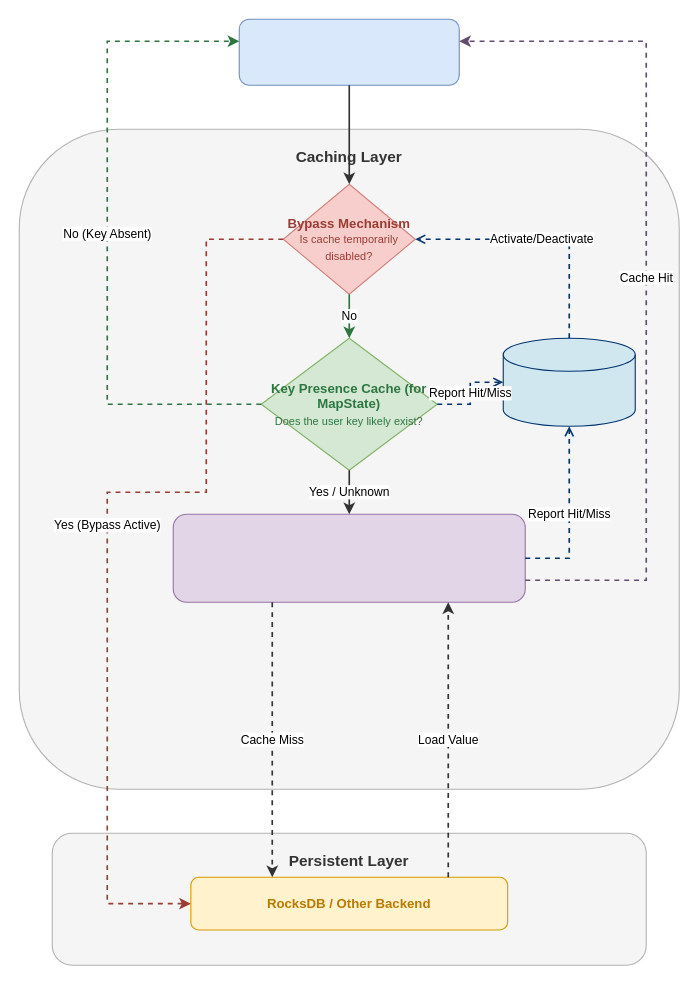
Image size: 699x985. Some labels were removed from this diagram. Here are the shapes that lost their labels. From the top down, the centre of each, then its label:
point 348,51: Flink Application (State Access)
point 568,381: Hit-Rate Monitor
point 348,557: 2-Layer Value Cache (L1/L2) Holds actual state values
